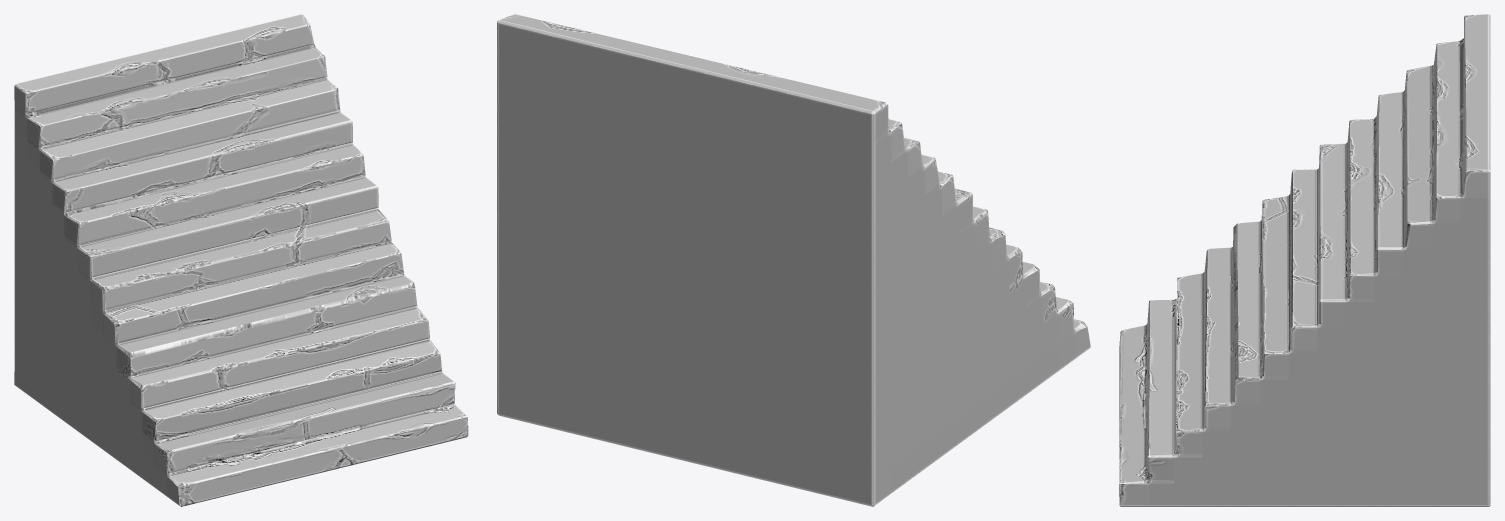
File: stairs.fbx
3 views of the same model, side by side, from view 1: azimuth 30°, elevation 25°; view 2: azimuth 150°, elevation 25°; view 3: azimuth 270°, elevation 25° (orthographic). The views are drawn at different scales.
Parts seen in each view (by area): view 1: Cube.002; view 2: Cube.002; view 3: Cube.002.
Boxes of the visible parts, x1,y1,x2,y2 form: Cube.002: [14, 14, 468, 506]; Cube.002: [497, 14, 1090, 506]; Cube.002: [1119, 14, 1490, 506].
Size of the model in its own units: 5.55 by 5.55 by 5.54.
